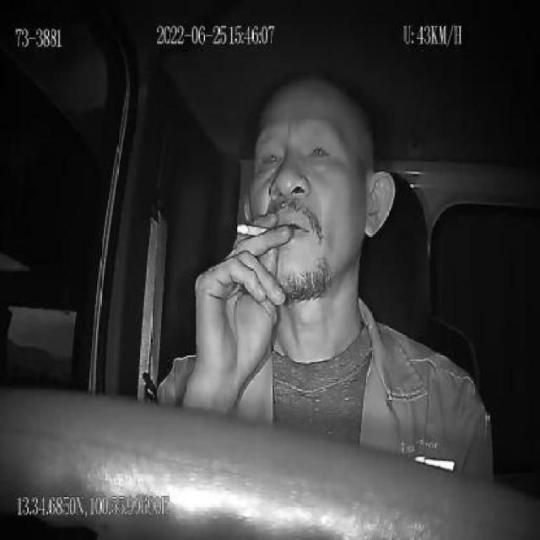smoking: (235, 221, 269, 237)
